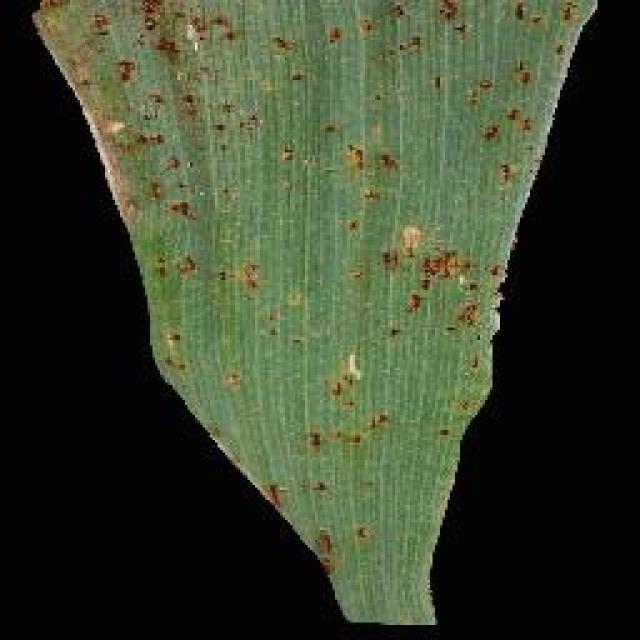Corn___Common_rust: (10, 0, 625, 638)
